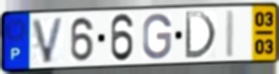6: (109, 12, 135, 63), (69, 15, 96, 64)
D: (183, 10, 219, 61)
G: (141, 12, 174, 61)
I: (223, 8, 237, 60)
V: (30, 15, 66, 65)
